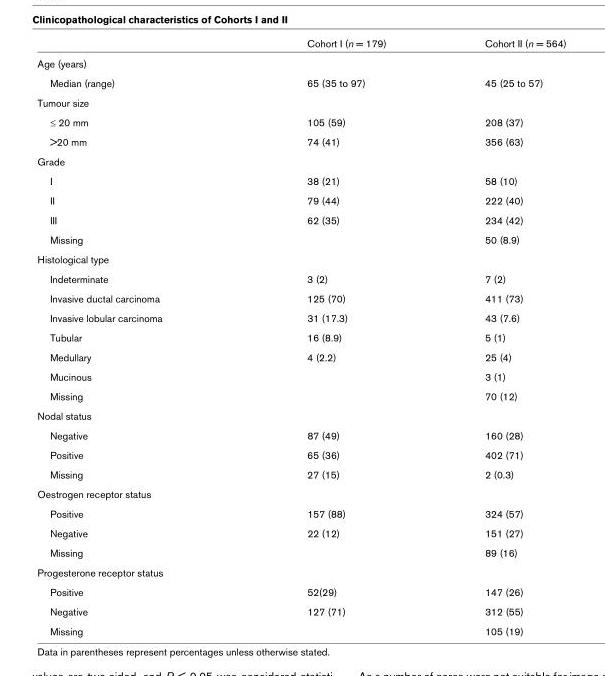table: (36, 36, 565, 636)
table column: (234, 36, 434, 636), (36, 36, 234, 636), (434, 36, 565, 636)
table column header: (36, 36, 565, 52)
table projected row header: (36, 52, 565, 72), (36, 248, 565, 268), (36, 405, 565, 425), (36, 483, 565, 503), (36, 92, 565, 111), (36, 151, 565, 170), (36, 562, 565, 581)
table row: (36, 52, 565, 72), (36, 72, 565, 92), (36, 111, 565, 131), (36, 131, 565, 151), (36, 170, 565, 190), (36, 209, 565, 229), (36, 248, 565, 268), (36, 268, 565, 288), (36, 307, 565, 327), (36, 346, 565, 366), (36, 385, 565, 405), (36, 405, 565, 425), (36, 444, 565, 464), (36, 483, 565, 503), (36, 503, 565, 523), (36, 542, 565, 562), (36, 581, 565, 601), (36, 92, 565, 111), (36, 151, 565, 170), (36, 190, 565, 209), (36, 229, 565, 248), (36, 288, 565, 307), (36, 327, 565, 346), (36, 366, 565, 385), (36, 425, 565, 444), (36, 464, 565, 483), (36, 523, 565, 542), (36, 562, 565, 581), (36, 601, 565, 620), (36, 36, 565, 52), (36, 620, 565, 636)
